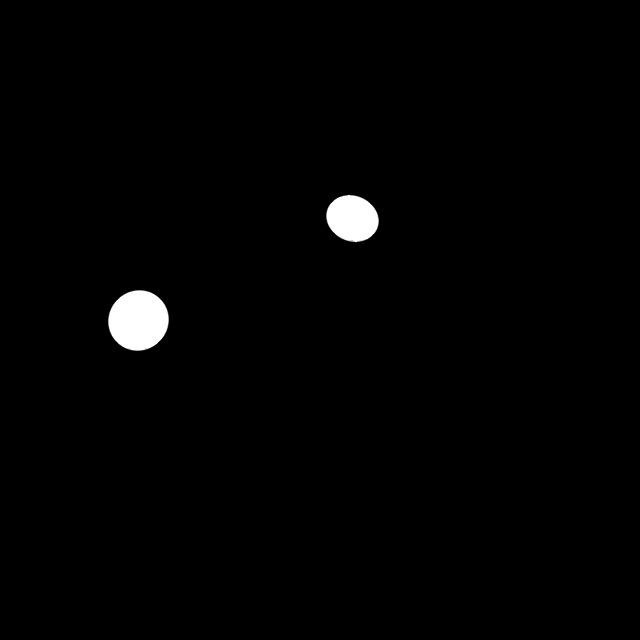Circle: (102, 284, 174, 360), (318, 188, 387, 247)
